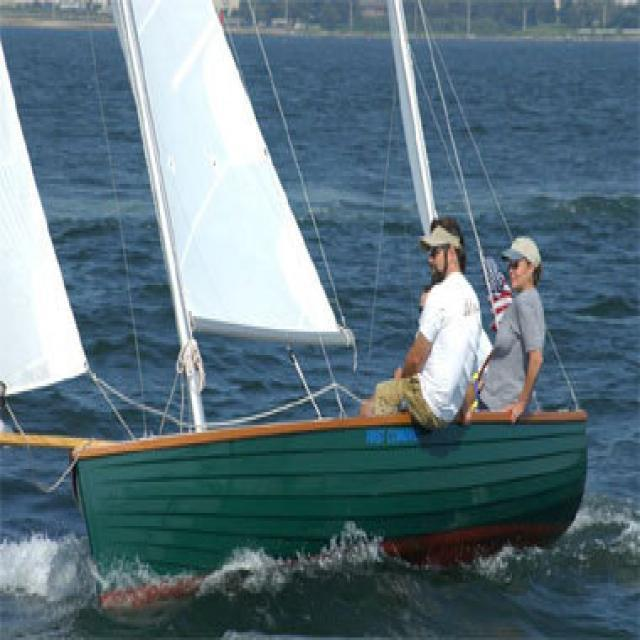Ship: (1, 1, 606, 610)
